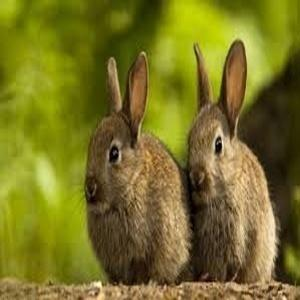rabbit: (87, 40, 276, 283)
